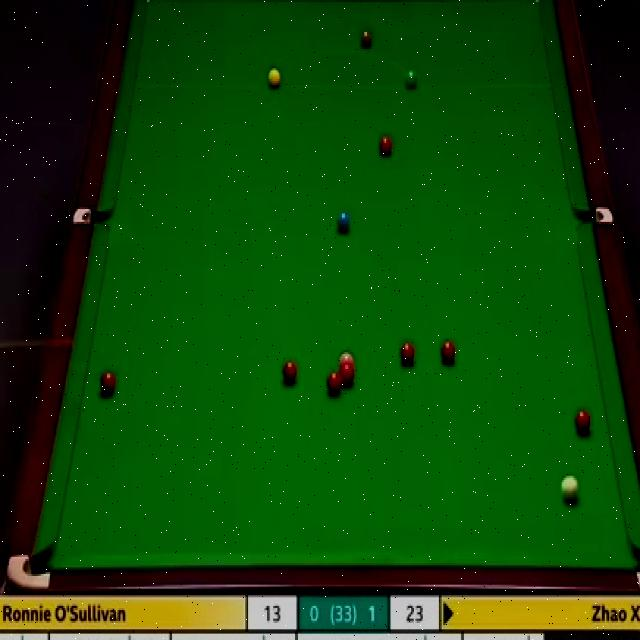blue-ball: (336, 211, 351, 231)
brown-ball: (359, 29, 372, 48)
green-ball: (403, 67, 418, 89)
pink-ball: (338, 354, 353, 371)
red-ball: (398, 341, 417, 365), (439, 339, 456, 364), (101, 370, 118, 395), (325, 372, 342, 395), (574, 410, 591, 432), (281, 359, 297, 382), (378, 136, 392, 158), (338, 368, 354, 385)
white-ball: (558, 475, 578, 501)
yellow-ball: (266, 68, 280, 88)
